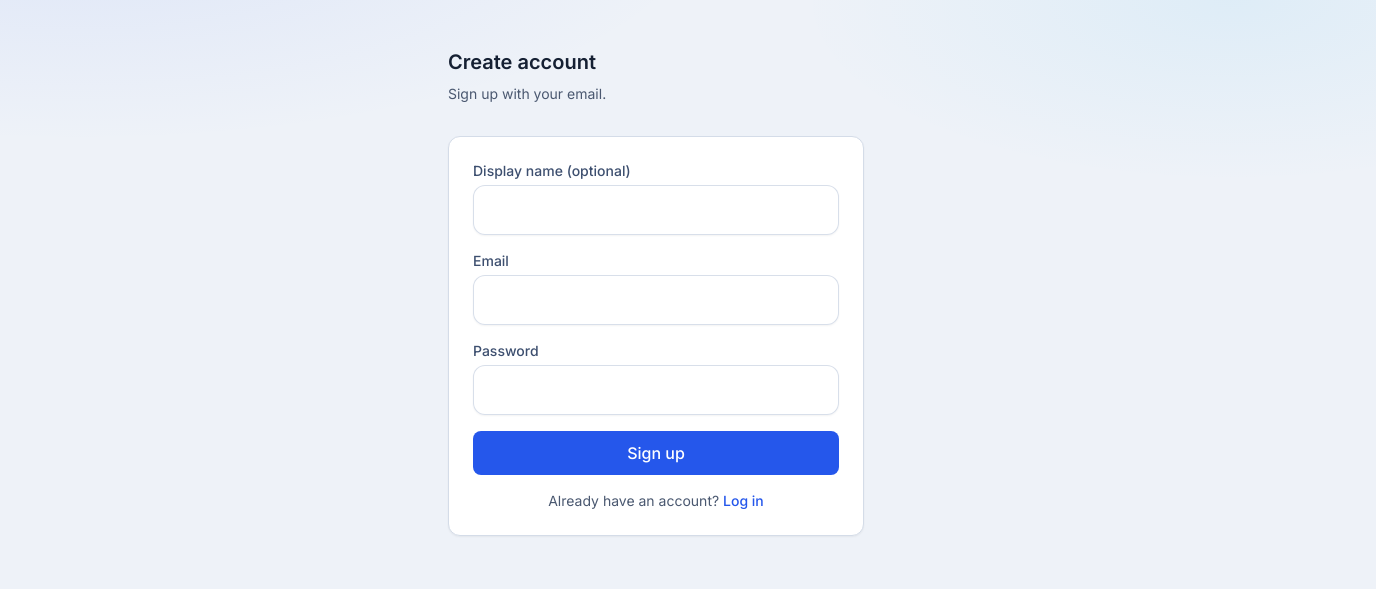
Scenario: SignupPage › shows password length validation
The width and height of the screenshot is (1376, 589).
Expected: the heading "Create account" is shown, [448, 50, 596, 74]
Type "user@test.dev" into the field labelled "Email". click: (656,300)
box: [473, 275, 839, 325]
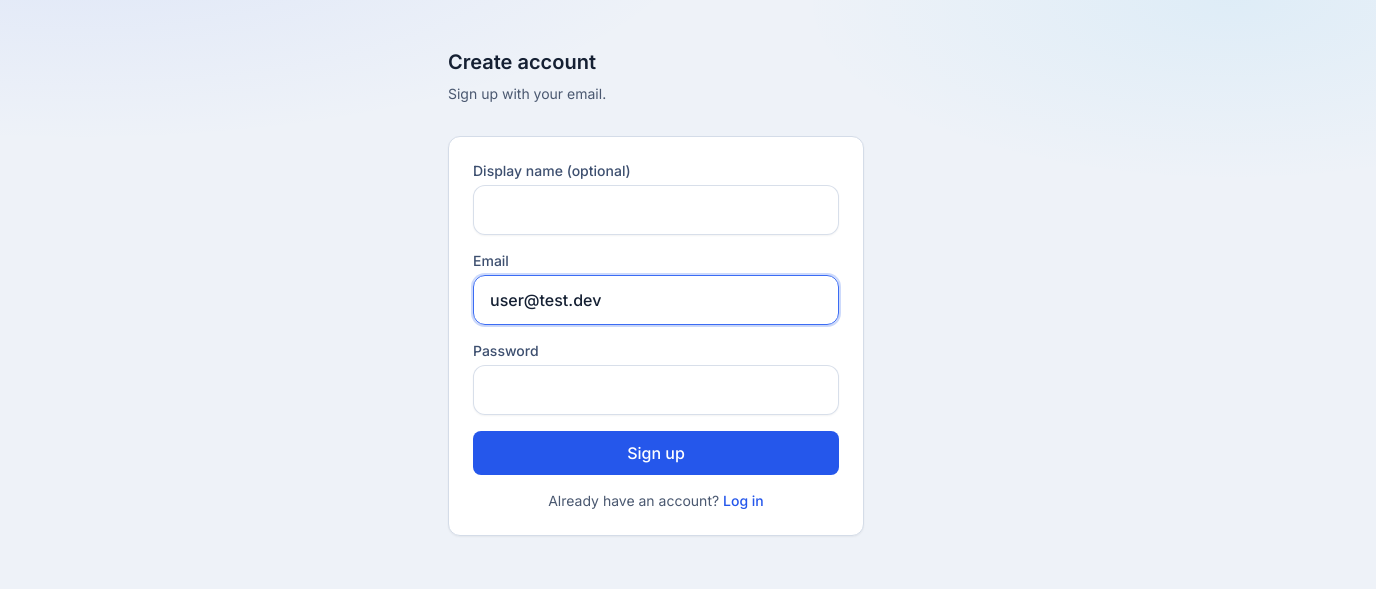
Type "short" into the password field labelled "Password". click: (656,390)
box: [473, 365, 839, 415]
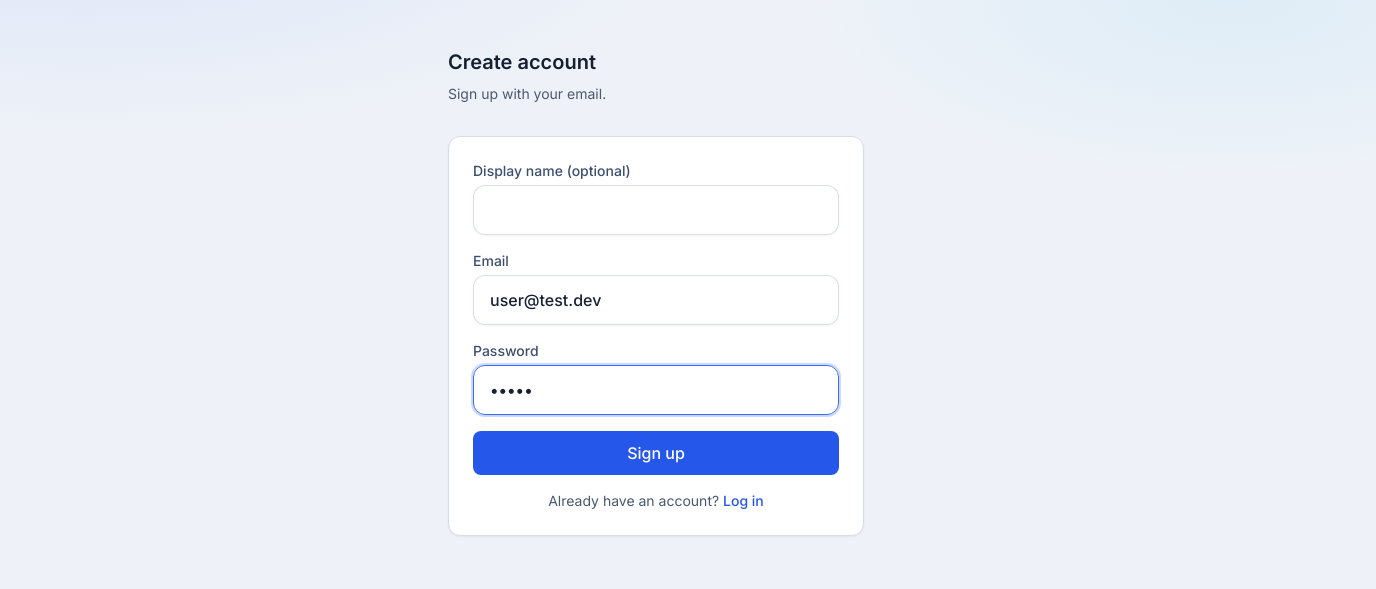
Submit the form "Sign up", box [448, 136, 864, 536]
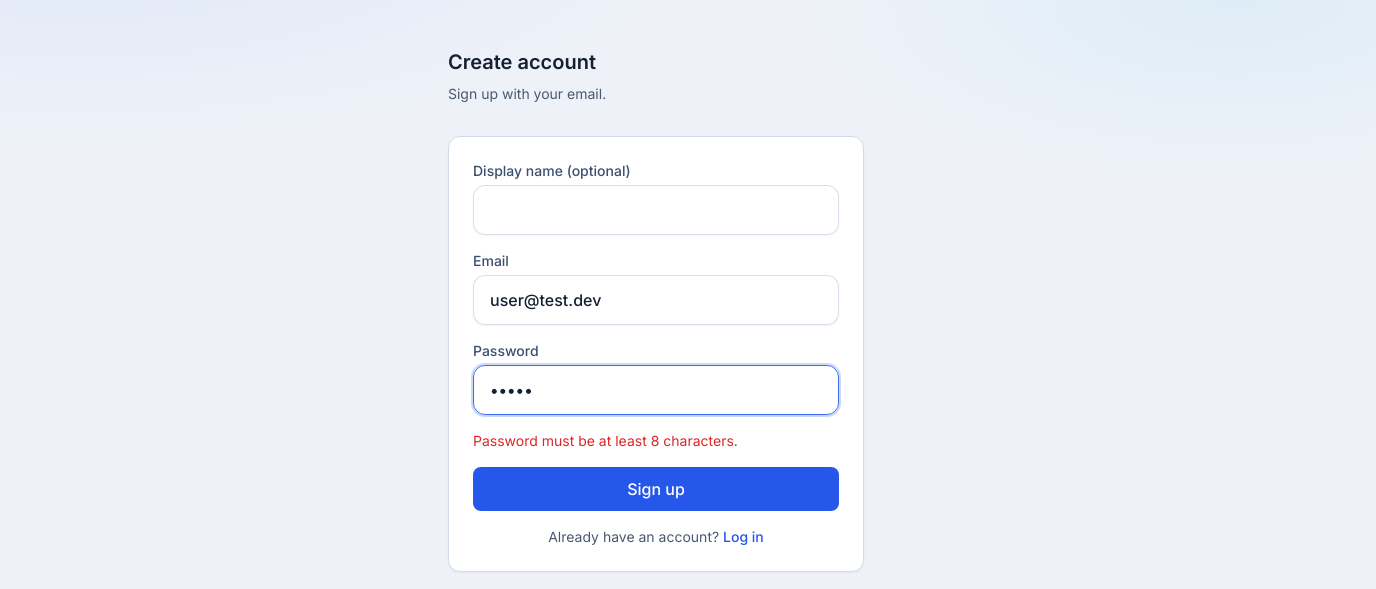
Expected: the text "Password must be at least 8 characters." is shown, [473, 432, 738, 449]
